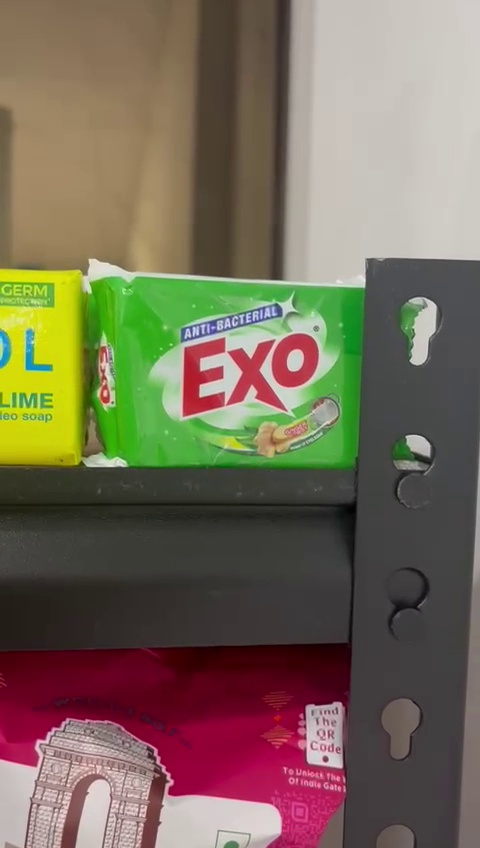Exo Soap: (99, 274, 371, 471)
